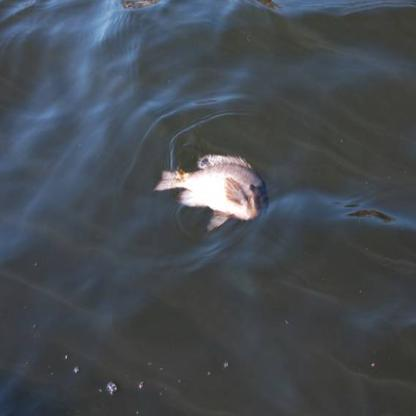deceased fish: (156, 151, 269, 233)
